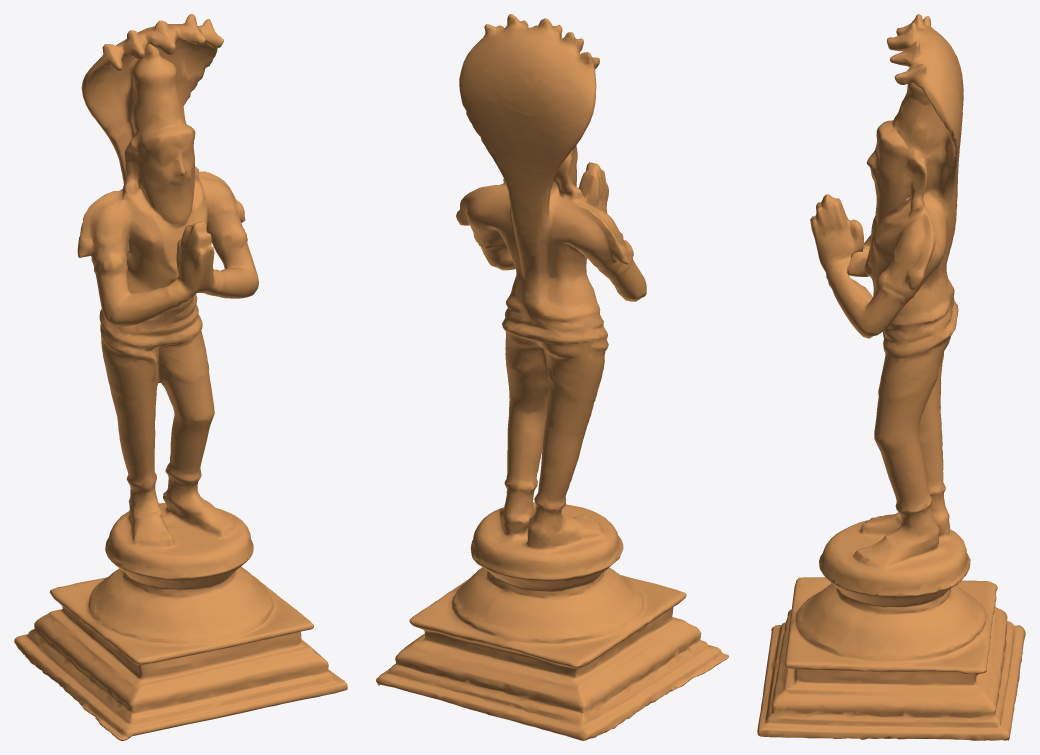
File: Vainavam_Manavaalamaamunikal_15.glb
3 renders of one model, left to right at view 1: azimuth 30°, elevation 25°; view 2: azimuth 150°, elevation 25°; view 3: azimuth 270°, elevation 25°, orthographic. The views are drawn at different scales.
Visible parts, largest first — view 1: Vainavam_Manavaalamaamunikal_15; view 2: Vainavam_Manavaalamaamunikal_15; view 3: Vainavam_Manavaalamaamunikal_15.
Part boxes in pixels (box(x1,y1,x2,y2)): Vainavam_Manavaalamaamunikal_15: box(14, 14, 347, 740); Vainavam_Manavaalamaamunikal_15: box(376, 14, 728, 740); Vainavam_Manavaalamaamunikal_15: box(757, 14, 1025, 740).
Size of the model in its own units: 0.3492 by 0.9368 by 0.3444.
